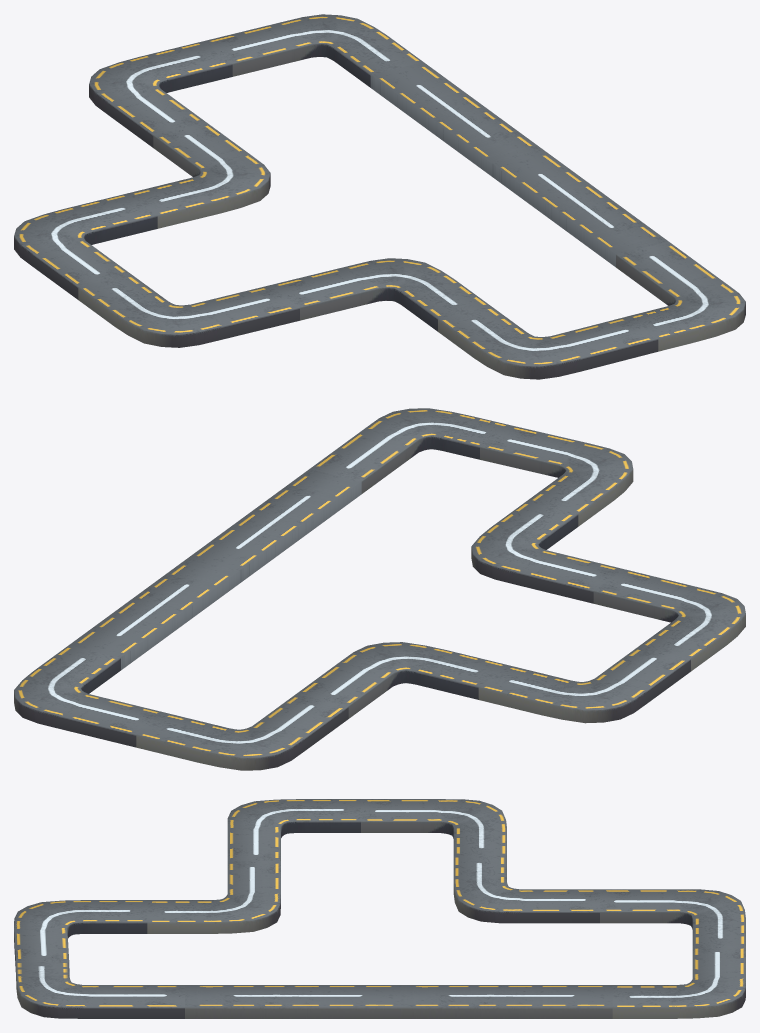
The model's file is road5.glb.
The picture shows the model from 3 angles, top to bottom: view 1: azimuth 30°, elevation 25°; view 2: azimuth 150°, elevation 25°; view 3: azimuth 270°, elevation 25°; orthographic projection. The views are drawn at different scales.
Visible parts, largest first — view 1: Rodja_road5; view 2: Rodja_road5; view 3: Rodja_road5.
Boxes of the visible parts, x1=… form: Rodja_road5: x1=14, y1=14, x2=745, y2=379; Rodja_road5: x1=14, y1=408, x2=745, y2=770; Rodja_road5: x1=14, y1=799, x2=745, y2=1018.
Bounding box in the file's own units: 10.22 × 0.2588 × 15.17.
Materials: 1 (1 with a texture image).
